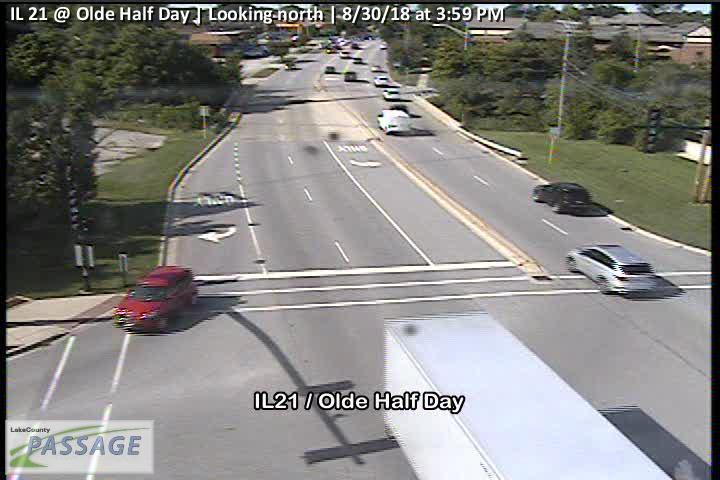SUV: (112, 266, 199, 333), (565, 243, 658, 295), (532, 181, 592, 213), (376, 109, 411, 134), (382, 88, 400, 100), (373, 75, 389, 86), (343, 71, 356, 81)
Truck: (381, 312, 674, 480)
